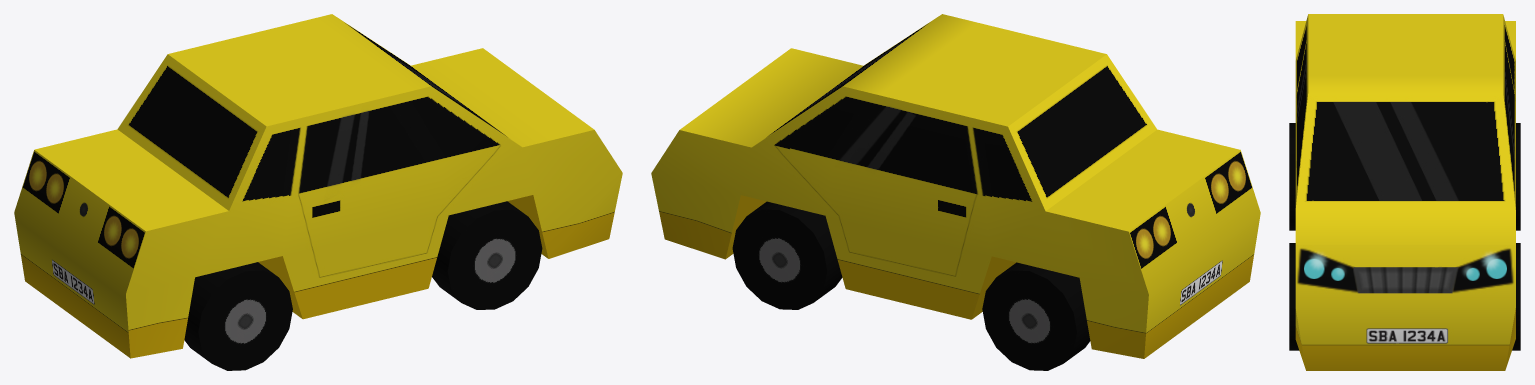
Rendered from Coche.obj.
The picture shows the model from 3 angles, left to right: view 1: azimuth 30°, elevation 25°; view 2: azimuth 150°, elevation 25°; view 3: azimuth 270°, elevation 25°; orthographic projection.
Visible parts, largest first — view 1: Coche2:Box001 group; view 2: Coche2:Box001 group; view 3: Coche2:Box001 group.
Part boxes in pixels (<box>): Coche2:Box001 group: <box>14,14,622,370</box>; Coche2:Box001 group: <box>651,14,1260,370</box>; Coche2:Box001 group: <box>1289,14,1520,370</box>.
Size of the model in its own units: 4.81 by 2.12 by 1.97.
1 material, 1 textured.
